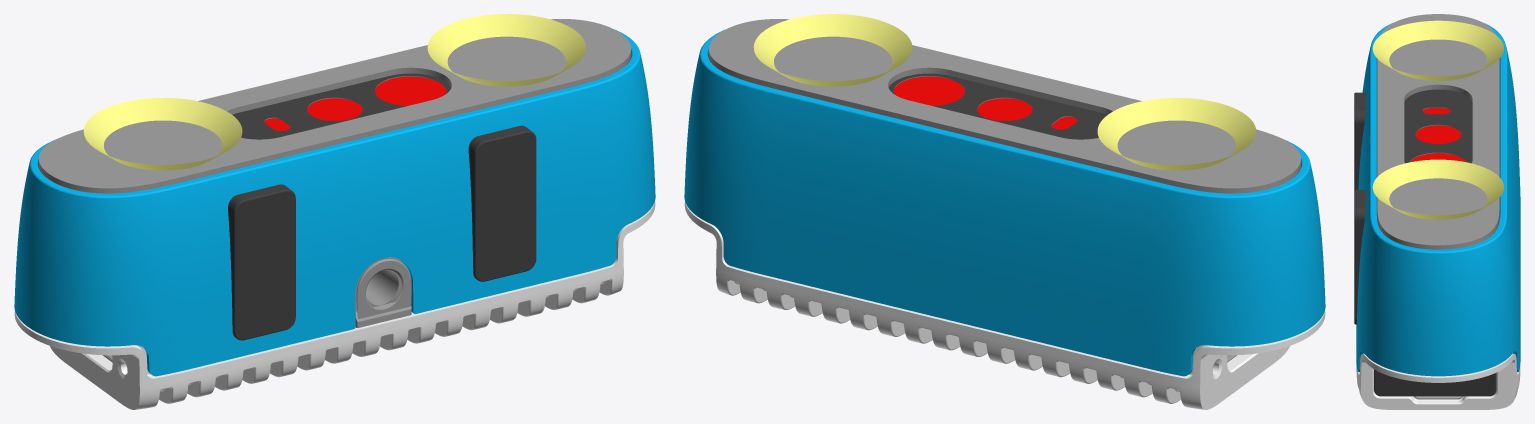
Rendered from imu.dae.
3 renders of one model, left to right at view 1: azimuth 30°, elevation 25°; view 2: azimuth 150°, elevation 25°; view 3: azimuth 270°, elevation 25°, orthographic. The views are drawn at different scales.
Parts seen in each view (by area): view 1: imu; view 2: imu; view 3: imu.
Boxes of the visible parts, x1,y1,x2,y2 form: imu: [14, 14, 655, 409]; imu: [684, 14, 1325, 409]; imu: [1354, 14, 1520, 409].
Size of the model in its own units: 0.0895 by 0.0253 by 0.0326.
